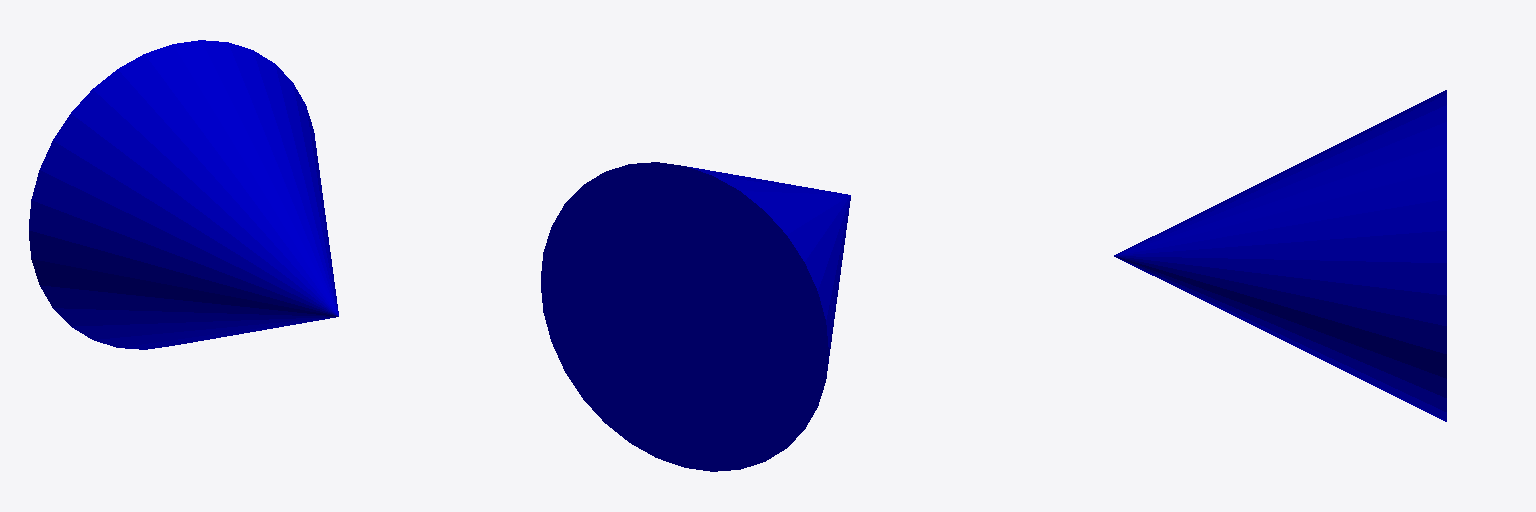
File: Customer.obj
3 renders of one model, left to right at view 1: azimuth 30°, elevation 25°; view 2: azimuth 150°, elevation 25°; view 3: azimuth 270°, elevation 25°, orthographic.
Visible parts, largest first — view 1: Customer_Cone; view 2: Customer_Cone; view 3: Customer_Cone.
Boxes of the visible parts, box(x1,y1,x2,y2) form: Customer_Cone: box(29, 40, 338, 349); Customer_Cone: box(541, 162, 850, 471); Customer_Cone: box(1114, 90, 1446, 421).
Bounding box in the file's own units: 2 × 2 × 2.